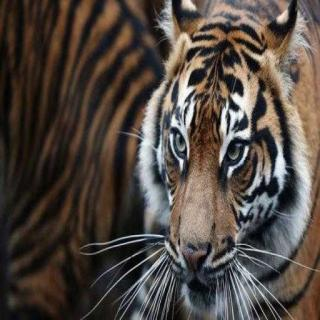Tiger: (125, 0, 320, 320)
